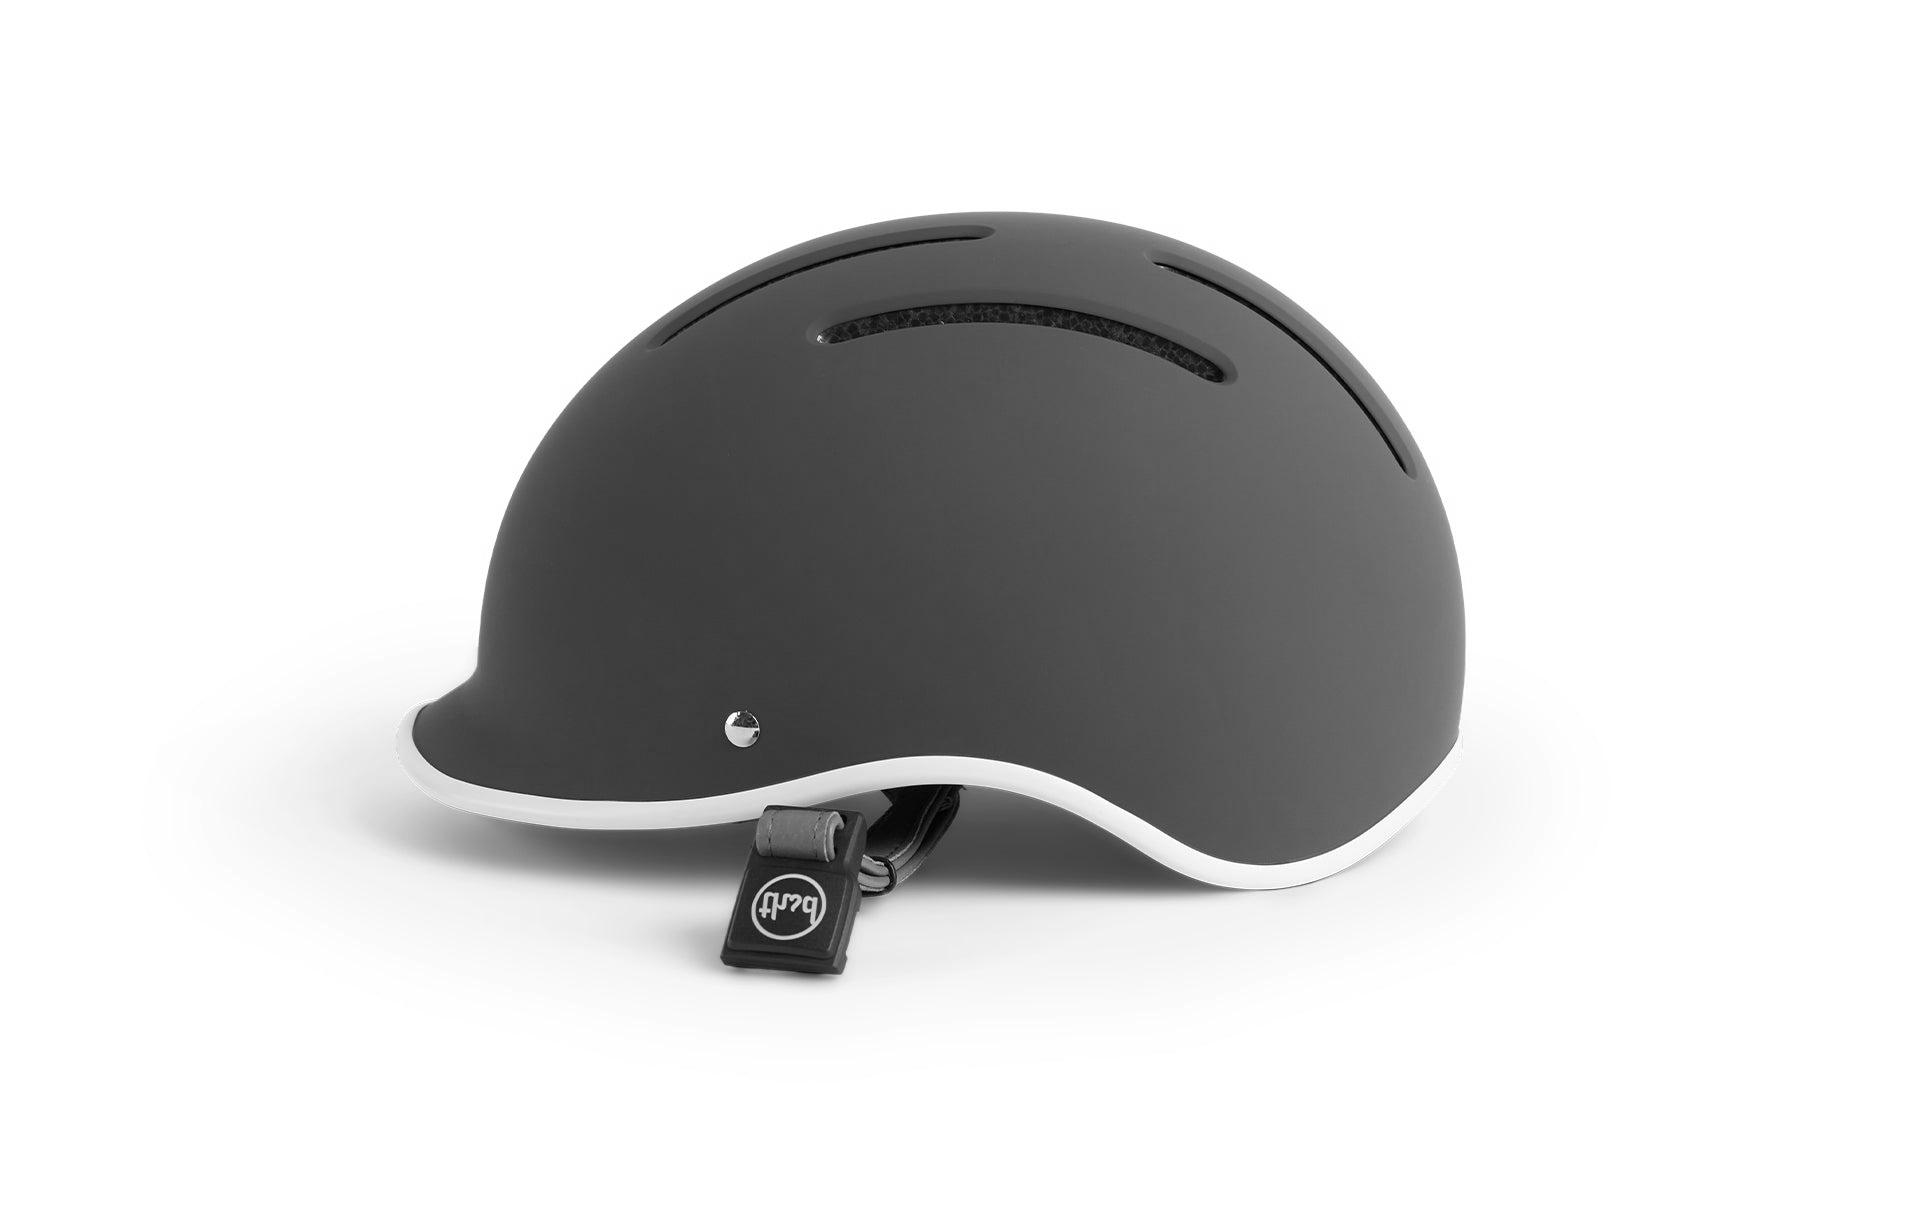Helmet: (402, 210, 1471, 897)
